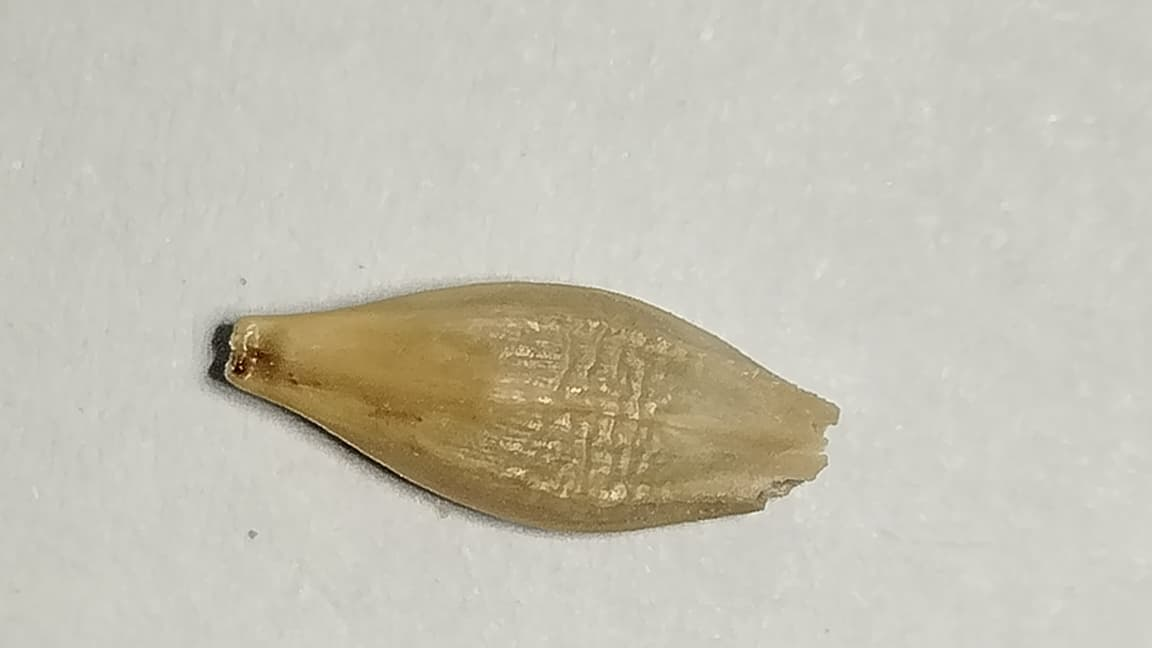healthy-70-60: (226, 283, 837, 530)
